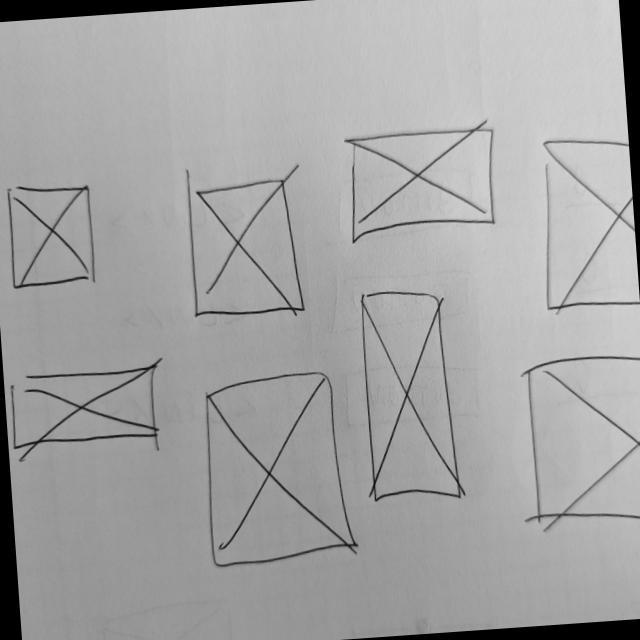image: (197, 367, 364, 573), (357, 282, 467, 509), (521, 349, 640, 548), (343, 122, 505, 246), (533, 132, 640, 317), (184, 173, 310, 326), (7, 363, 170, 463), (3, 177, 99, 295)
